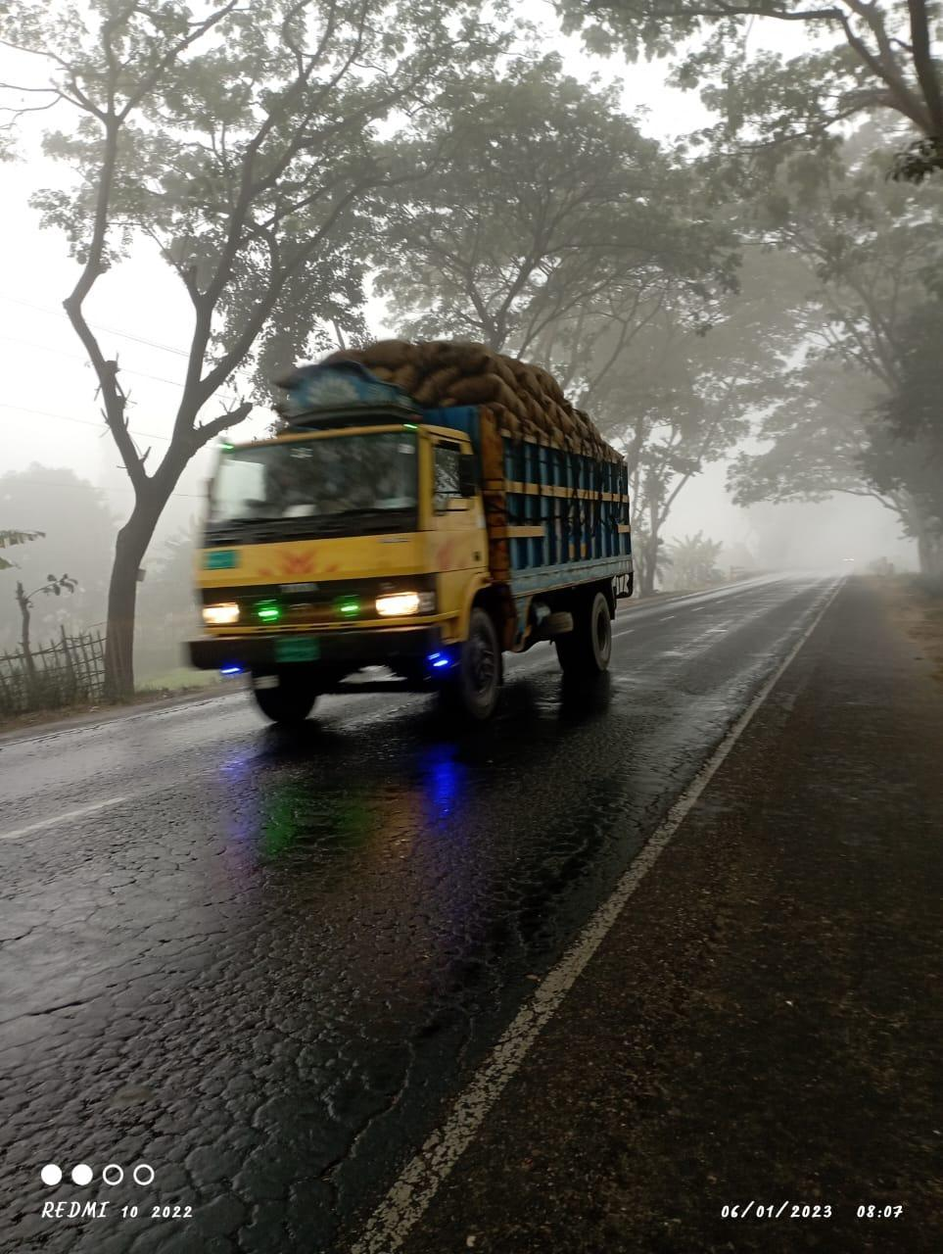Truck: (177, 336, 639, 728)
